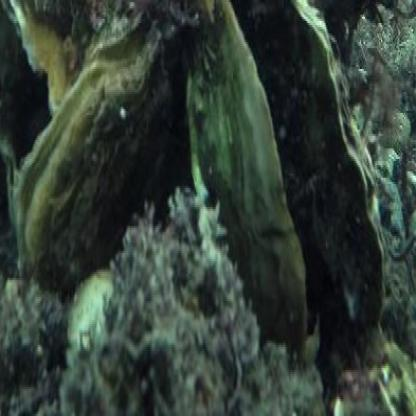Oyster- Indeterminate: (14, 11, 181, 305), (2, 0, 205, 107)
Oyster-Open: (189, 0, 387, 361)
